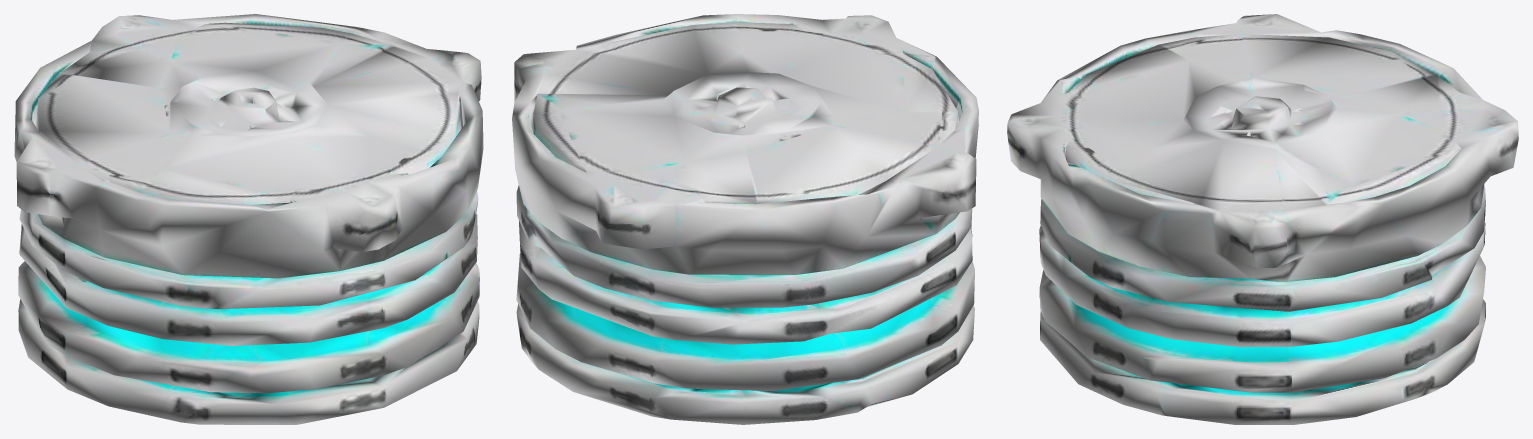
The model's file is harddrive.min.glb.
3 views of the same model, side by side, from view 1: azimuth 30°, elevation 25°; view 2: azimuth 150°, elevation 25°; view 3: azimuth 270°, elevation 25° (orthographic). The views are drawn at different scales.
Size of the model in its own units: 1.89 by 0.9194 by 1.9.
1 material, 1 textured.
